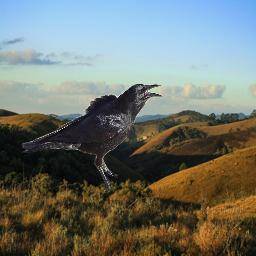Crow: (22, 83, 163, 193)
